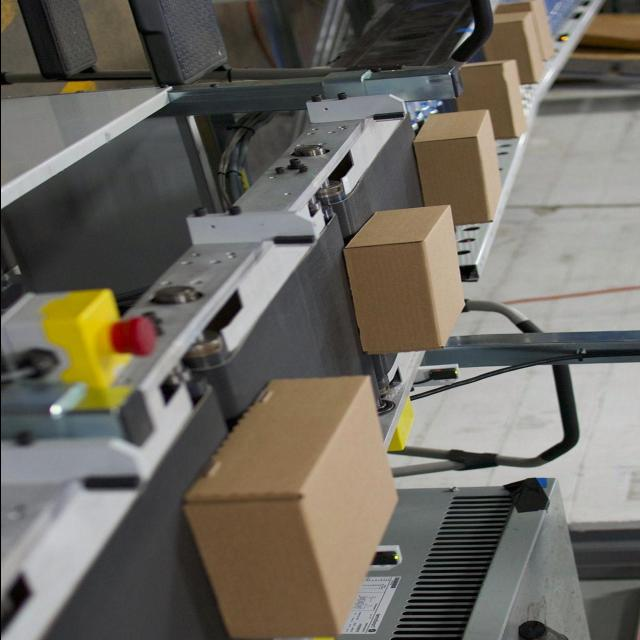food: (180, 374, 400, 638), (340, 204, 467, 356), (410, 108, 504, 226)
